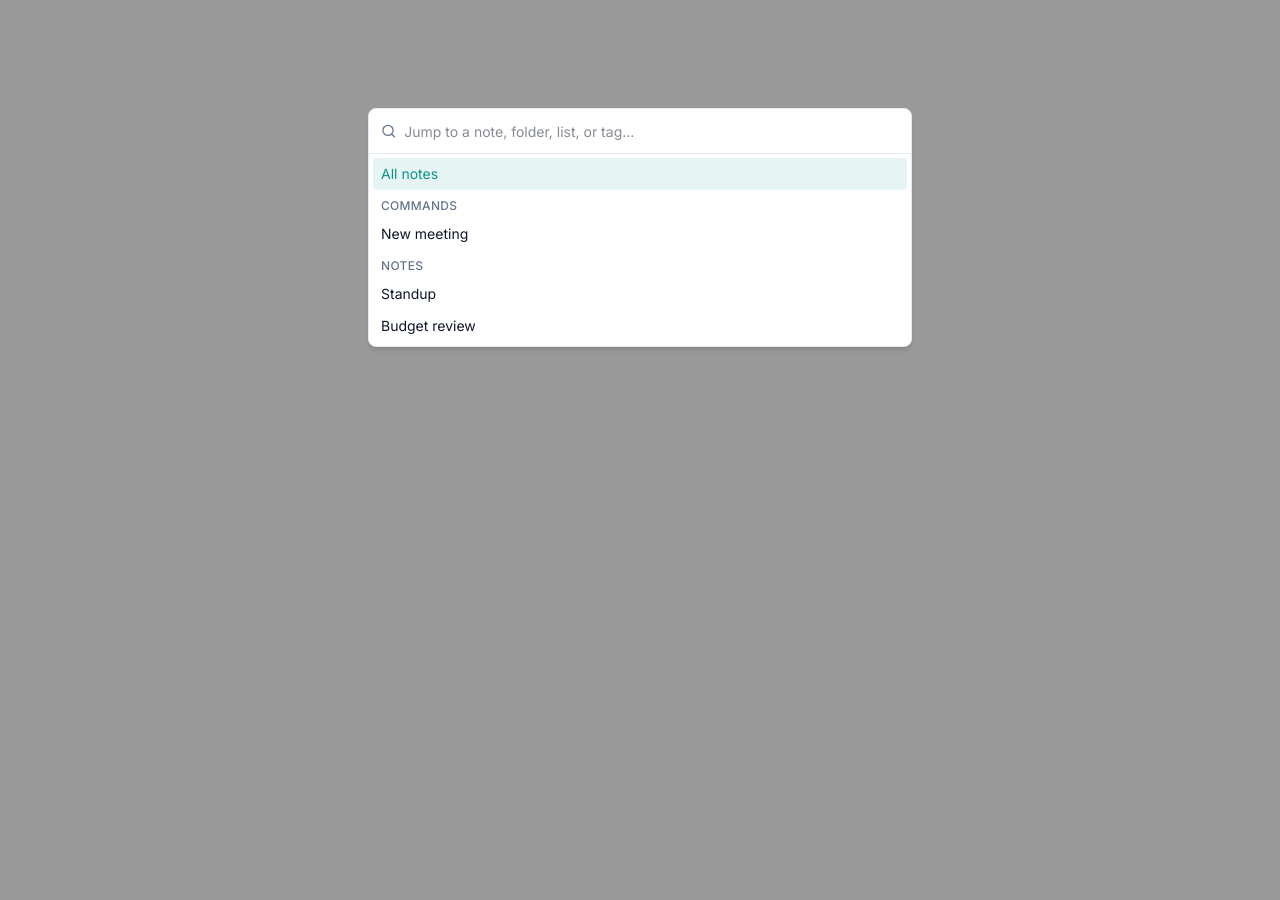
CommandPalette › action commands › shows action when query matches its label
The image size is (1280, 900).
Type "new" into the field named "Search" at (652, 131), box [404,109,899,153]
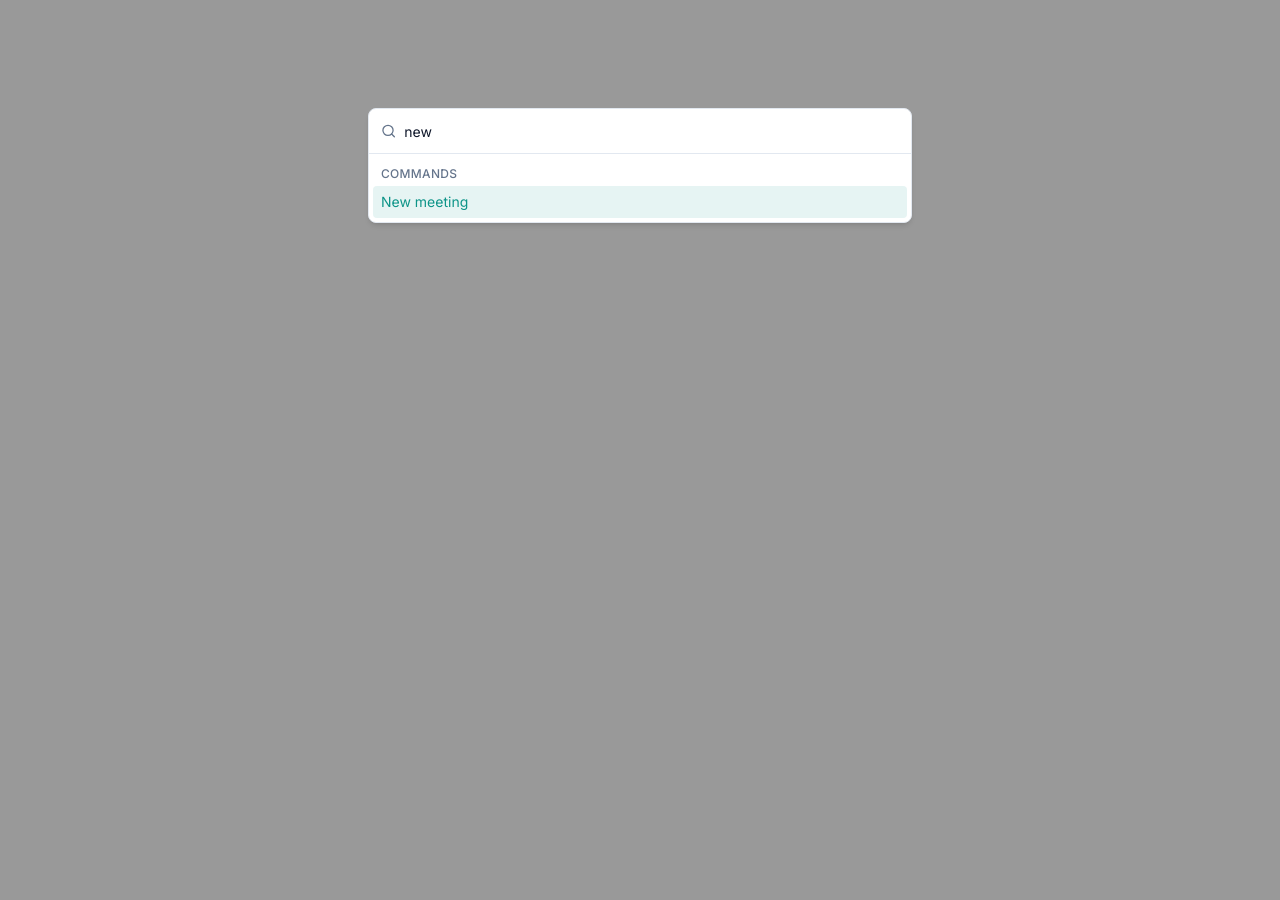
Expected: the text "New meeting" is shown, [381,193,468,210]
